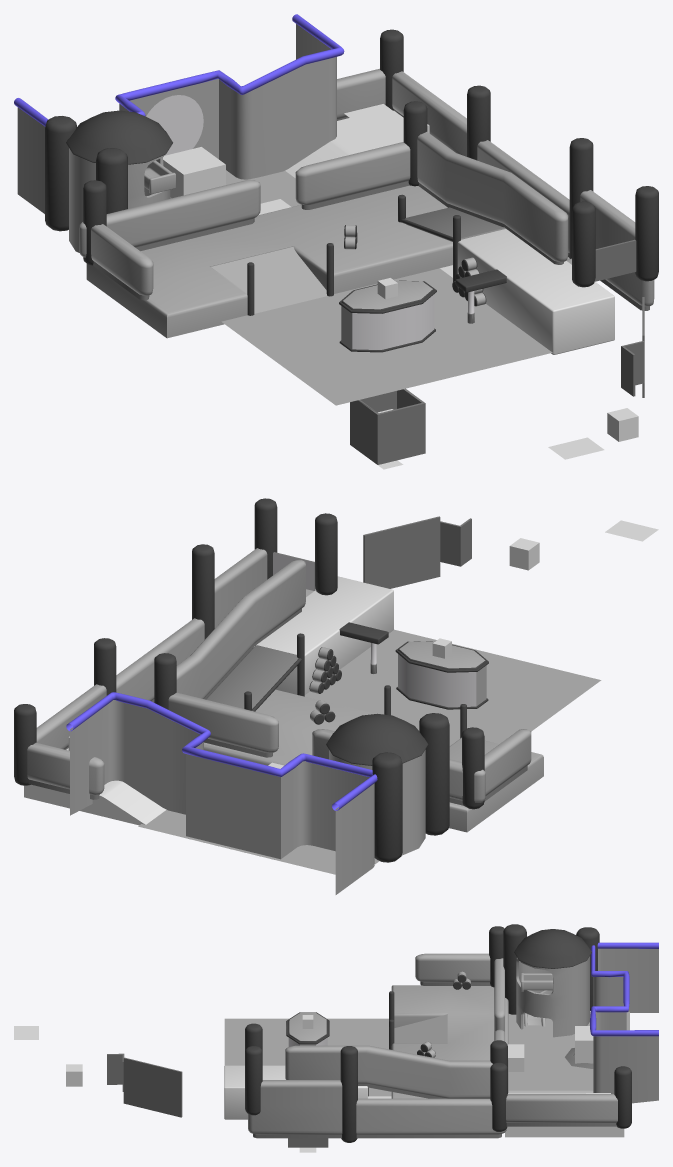
3 views of the same model, one above another, from view 1: azimuth 30°, elevation 25°; view 2: azimuth 150°, elevation 25°; view 3: azimuth 270°, elevation 25° (orthographic). The views are drawn at different scales.
Parts seen in each view (by area): view 1: Cube.003, Plane.004, TeamFortress, PlatformSide, Wall.004, Wall.002, Cube.070, Wall.003, Killbox, Wall.005, Ramp, TowerRoof (+27 smaller); view 2: TeamFortress, Plane.004, Wall.004, PlatformSide, Cube.003, Cube.070, Wall.005, Cube.041, Wall.003, TowerRoof, SO_INDICATOR_TEAM1_INCLUDEMESH_Rim, Cylinder.005 (+22 smaller); view 3: Wall.005, TeamFortress, Wall.004, Cube.003, Plane, Plane.004, Tower, Wall.007, Cube.041, TowerRoof, Wall.009, SO_INDICATOR_TEAM1_INCLUDEMESH_Rim (+21 smaller).
Boxes of the visible parts, box(x1,y1,x2,y2) form: Cube.003: box(86, 185, 452, 338); Plane.004: box(221, 268, 552, 405); TeamFortress: box(17, 24, 336, 213); PlatformSide: box(457, 227, 614, 354); Wall.004: box(417, 132, 568, 264); Wall.002: box(79, 180, 260, 257); Cube.070: box(339, 280, 436, 352); Wall.003: box(295, 142, 410, 209); Killbox: box(350, 388, 425, 464); Wall.005: box(477, 140, 654, 310); Ramp: box(211, 246, 327, 313); TowerRoof: box(66, 110, 172, 164); TeamFortress: box(70, 700, 374, 894); Plane.004: box(304, 629, 601, 745); Wall.004: box(176, 559, 305, 699); PlatformSide: box(254, 576, 393, 694); Cube.003: box(204, 689, 543, 832); Cube.070: box(395, 641, 488, 709); Wall.005: box(116, 548, 267, 702); Cube.041: box(363, 516, 440, 588); Wall.003: box(168, 692, 278, 757); TowerRoof: box(326, 713, 428, 765); SO_INDICATOR_TEAM1_INCLUDEMESH_Rim: box(66, 692, 377, 810); Cylinder.005: box(372, 752, 402, 862); Wall.005: box(248, 1080, 506, 1138); TeamFortress: box(593, 948, 658, 1103); Wall.004: box(285, 1045, 492, 1098); Cube.003: box(391, 985, 508, 1098); Plane: box(508, 1011, 629, 1090); Plane.004: box(224, 1018, 391, 1096); Tower: box(516, 956, 589, 1037); Wall.007: box(506, 1094, 617, 1126); Cube.041: box(123, 1057, 182, 1117); TowerRoof: box(514, 929, 591, 968); Wall.009: box(415, 953, 490, 985); SO_INDICATOR_TEAM1_INCLUDEMESH_Rim: box(590, 942, 658, 1036).
Bounding box in the file's own units: 41.07 × 23.84 × 77.22.
